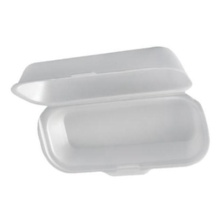foam_box: (6, 41, 216, 183)
